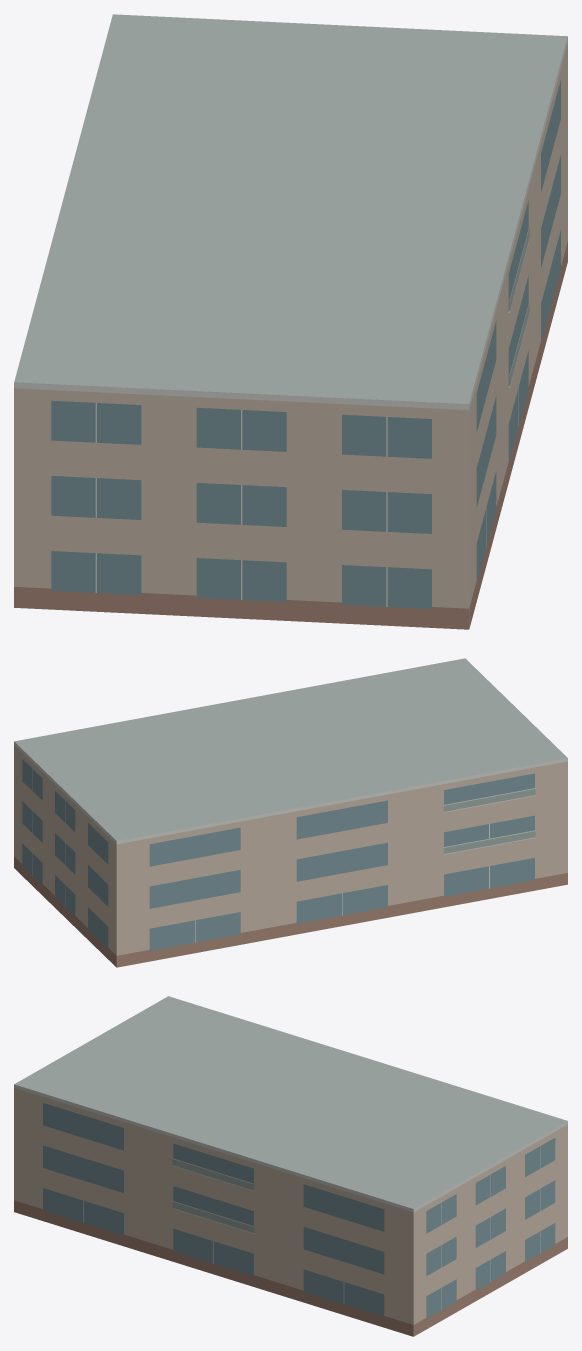
File: residential-4e2db7dc-2fc6-4d97-a3de-6ad6b7d99b04.glb
The picture shows the model from 3 angles, top to bottom: view 1: azimuth 30°, elevation 25°; view 2: azimuth 150°, elevation 25°; view 3: azimuth 270°, elevation 25°; orthographic projection. The views are drawn at different scales.
Visible parts, largest first — view 1: residential-4e2db7dc-2fc6-4d97-a3de-6ad6b7d99b04.tmp; view 2: residential-4e2db7dc-2fc6-4d97-a3de-6ad6b7d99b04.tmp; view 3: residential-4e2db7dc-2fc6-4d97-a3de-6ad6b7d99b04.tmp.
Part boxes in pixels (x1=…): residential-4e2db7dc-2fc6-4d97-a3de-6ad6b7d99b04.tmp: x1=14, y1=14, x2=567, y2=629; residential-4e2db7dc-2fc6-4d97-a3de-6ad6b7d99b04.tmp: x1=14, y1=658, x2=567, y2=967; residential-4e2db7dc-2fc6-4d97-a3de-6ad6b7d99b04.tmp: x1=14, y1=996, x2=567, y2=1336.
Size of the model in its own units: 32.71 by 9.15 by 35.95.
